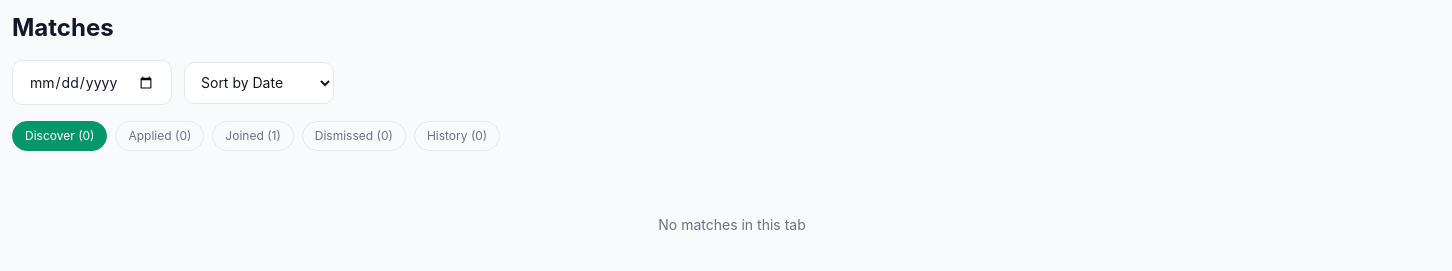
Test: MatchListPage — sport display (Group 4) › renders sport_name and sport_icon on the match card
The width and height of the screenshot is (1452, 271).
Step 1. Click the button "Joined (1)" → (253, 136), box [212,121,294,151]
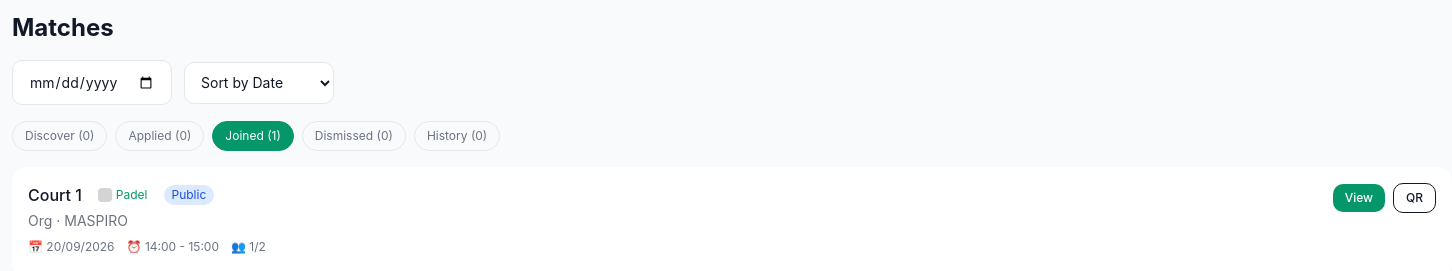
Result: the text "Padel" is shown at [98,187,148,202]
